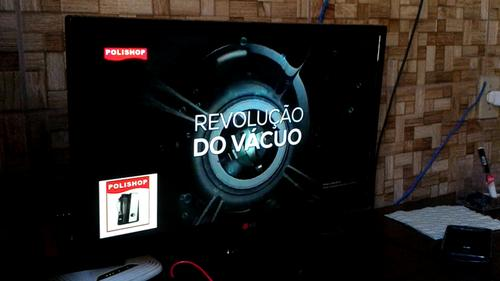Polishop #1: (100, 173, 158, 238)
